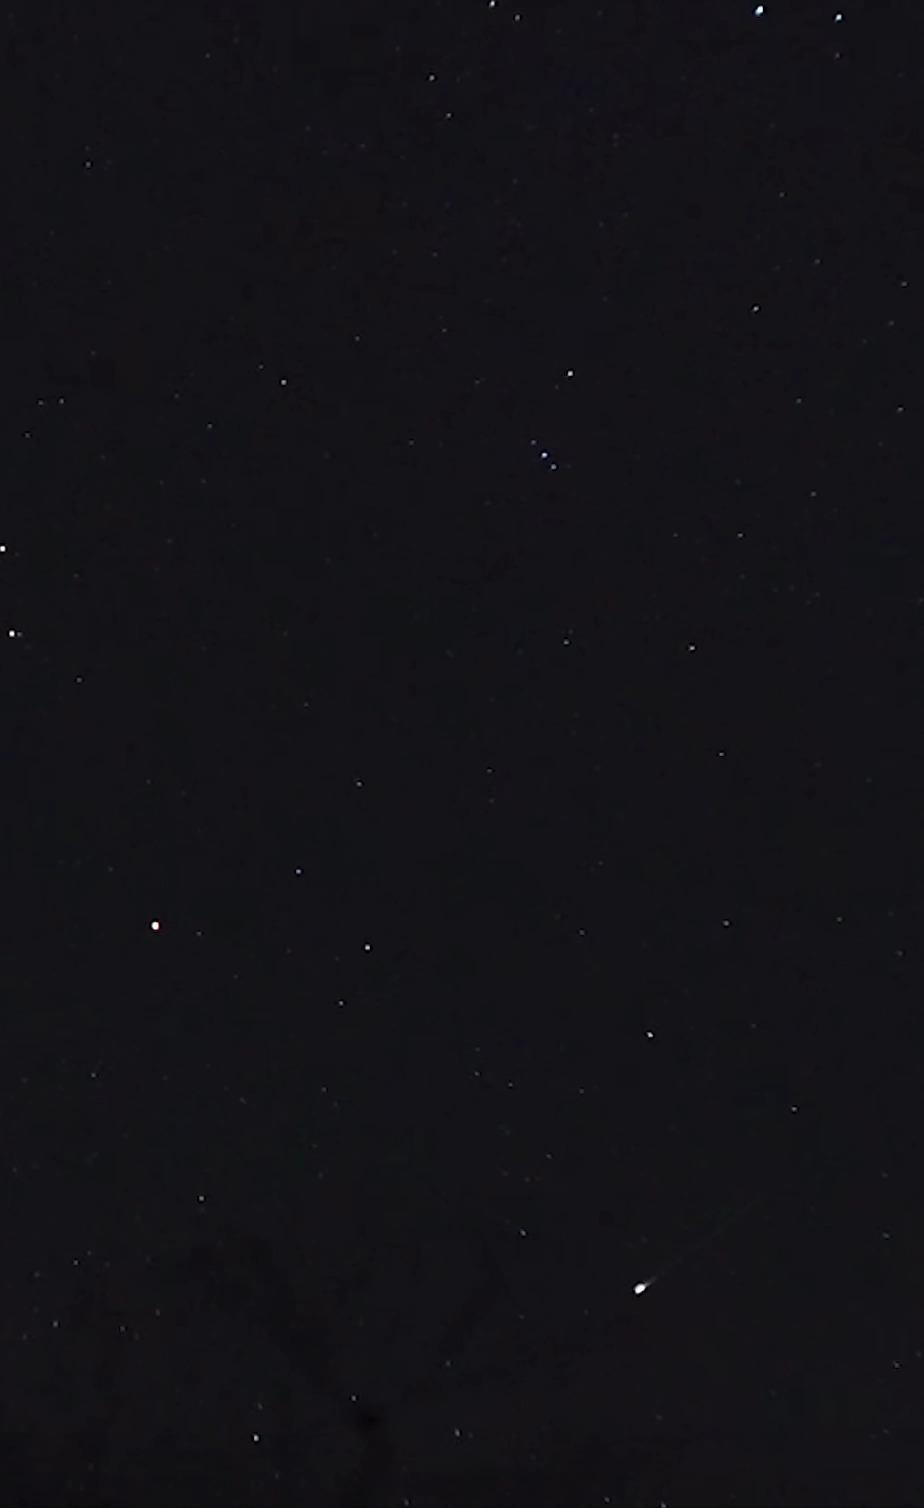meteorite: (617, 1249, 688, 1312)
